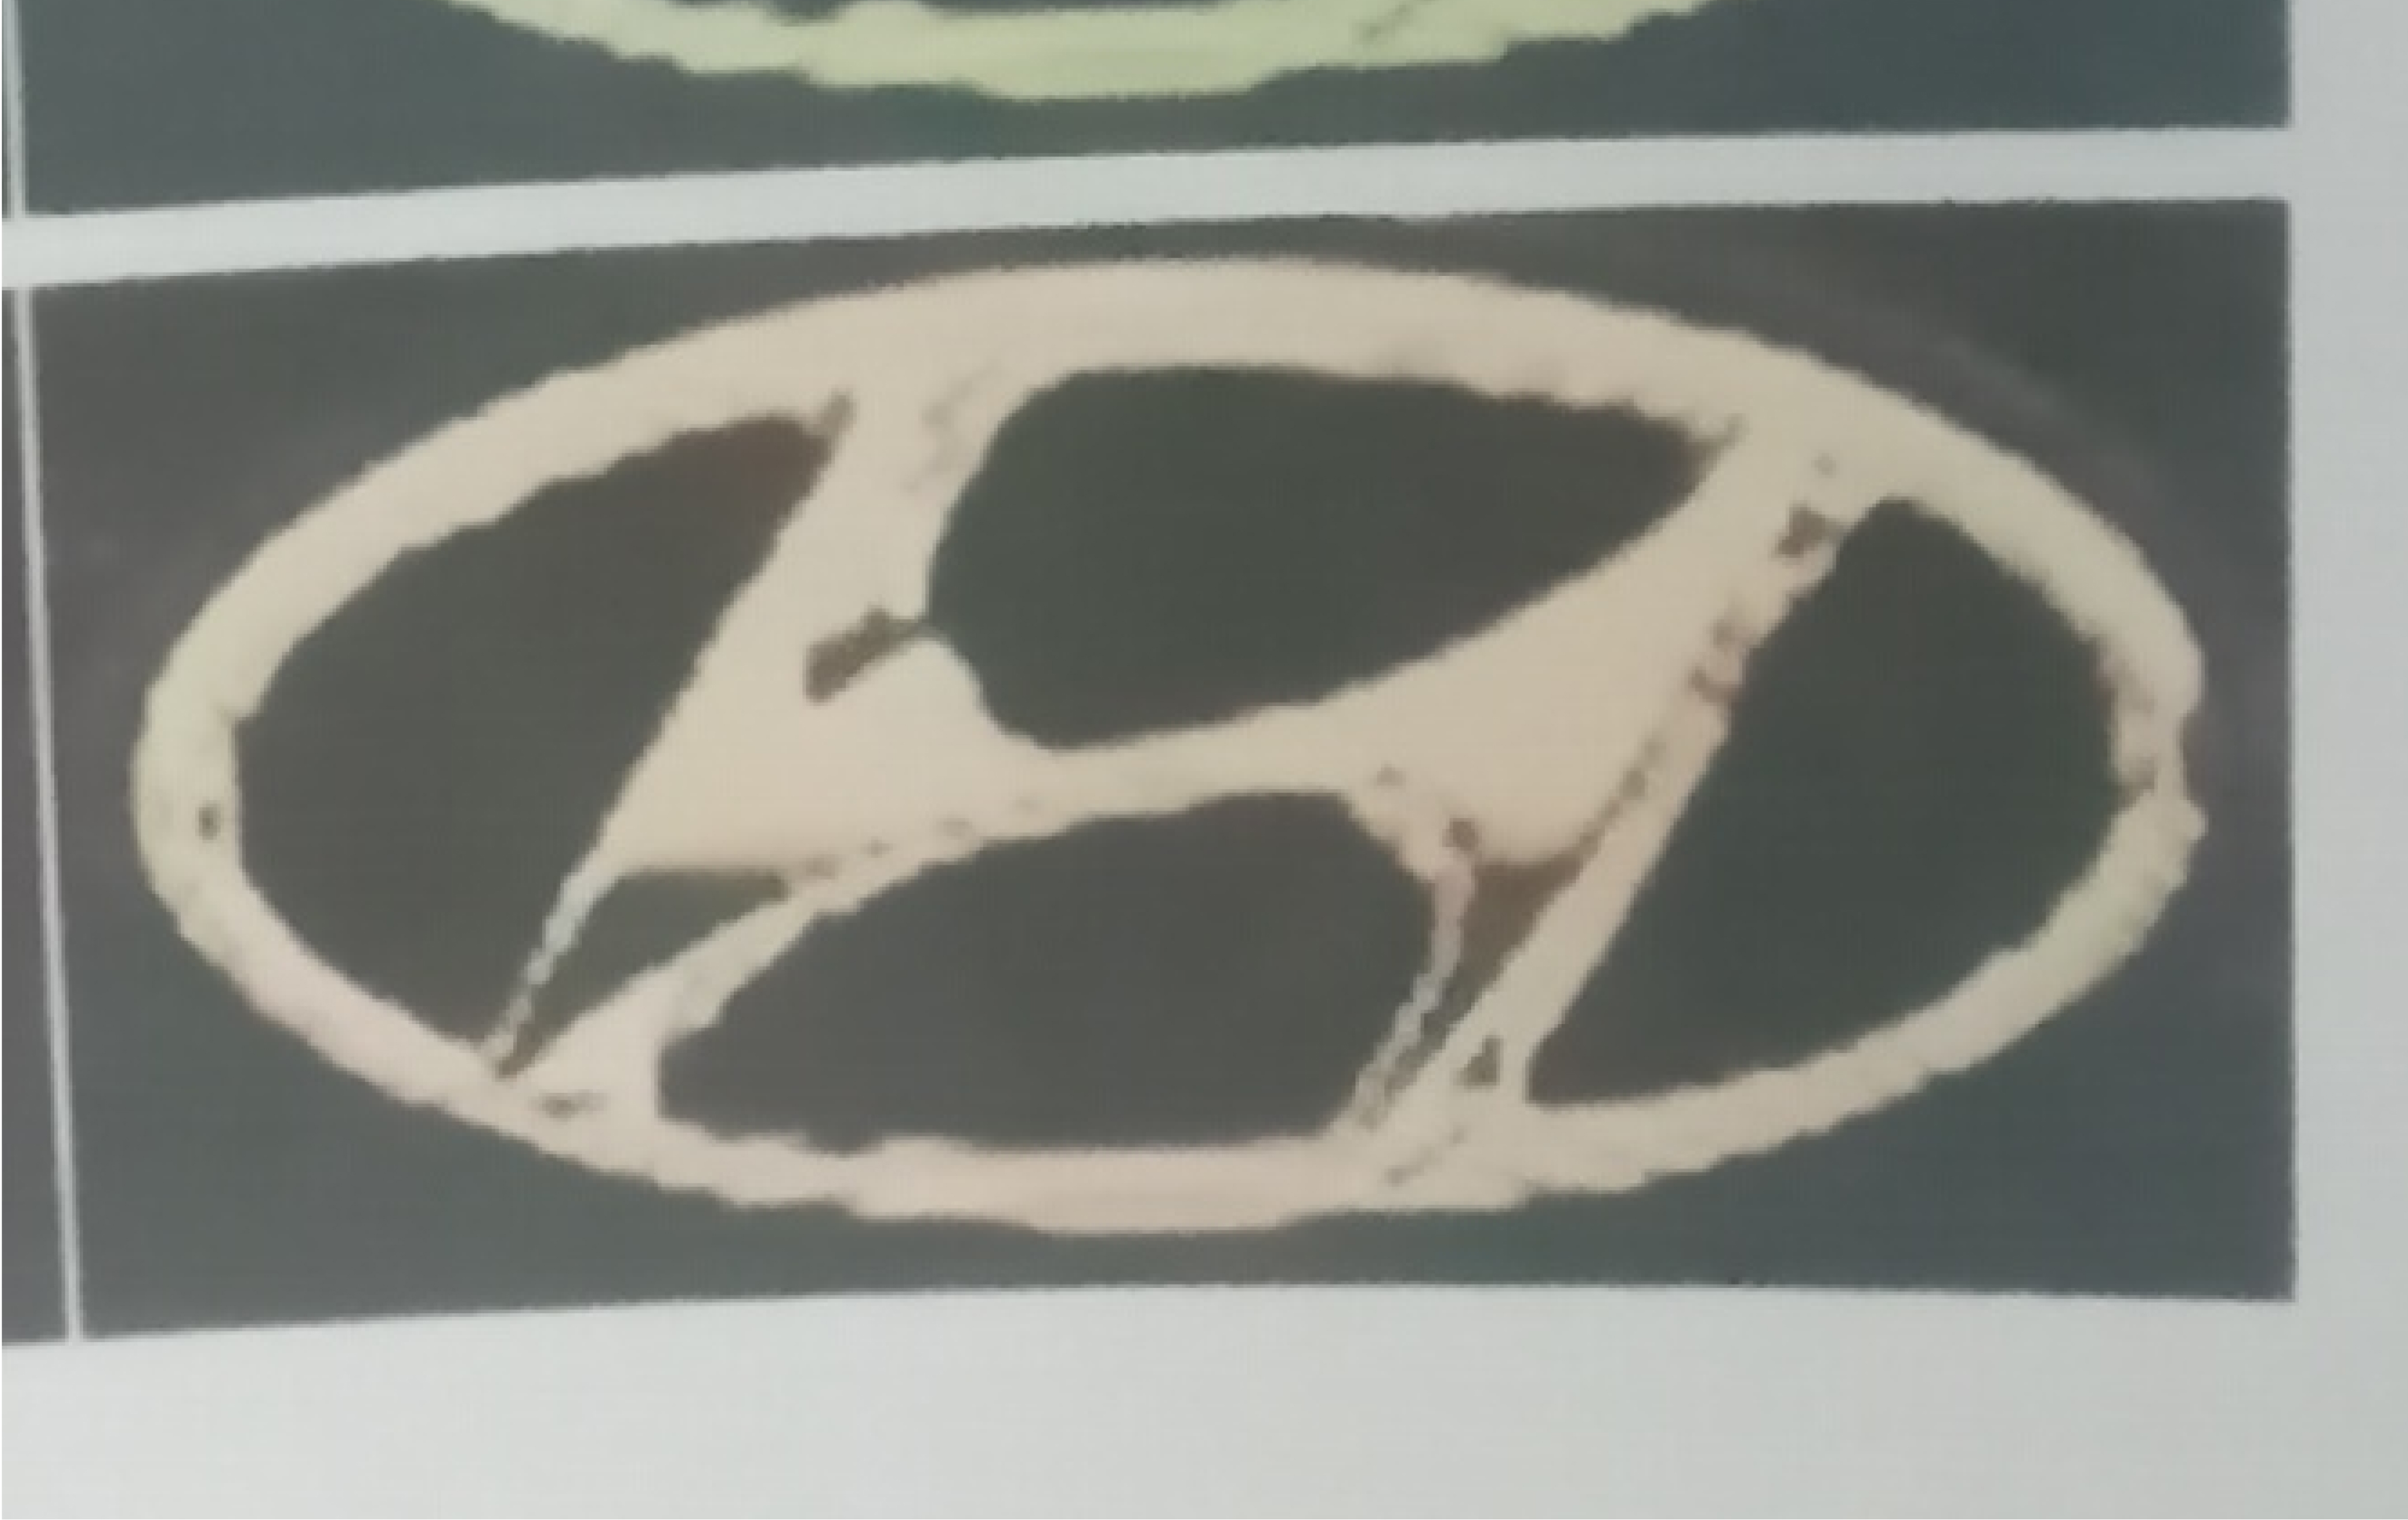Hyundai: (47, 217, 2285, 1273)
